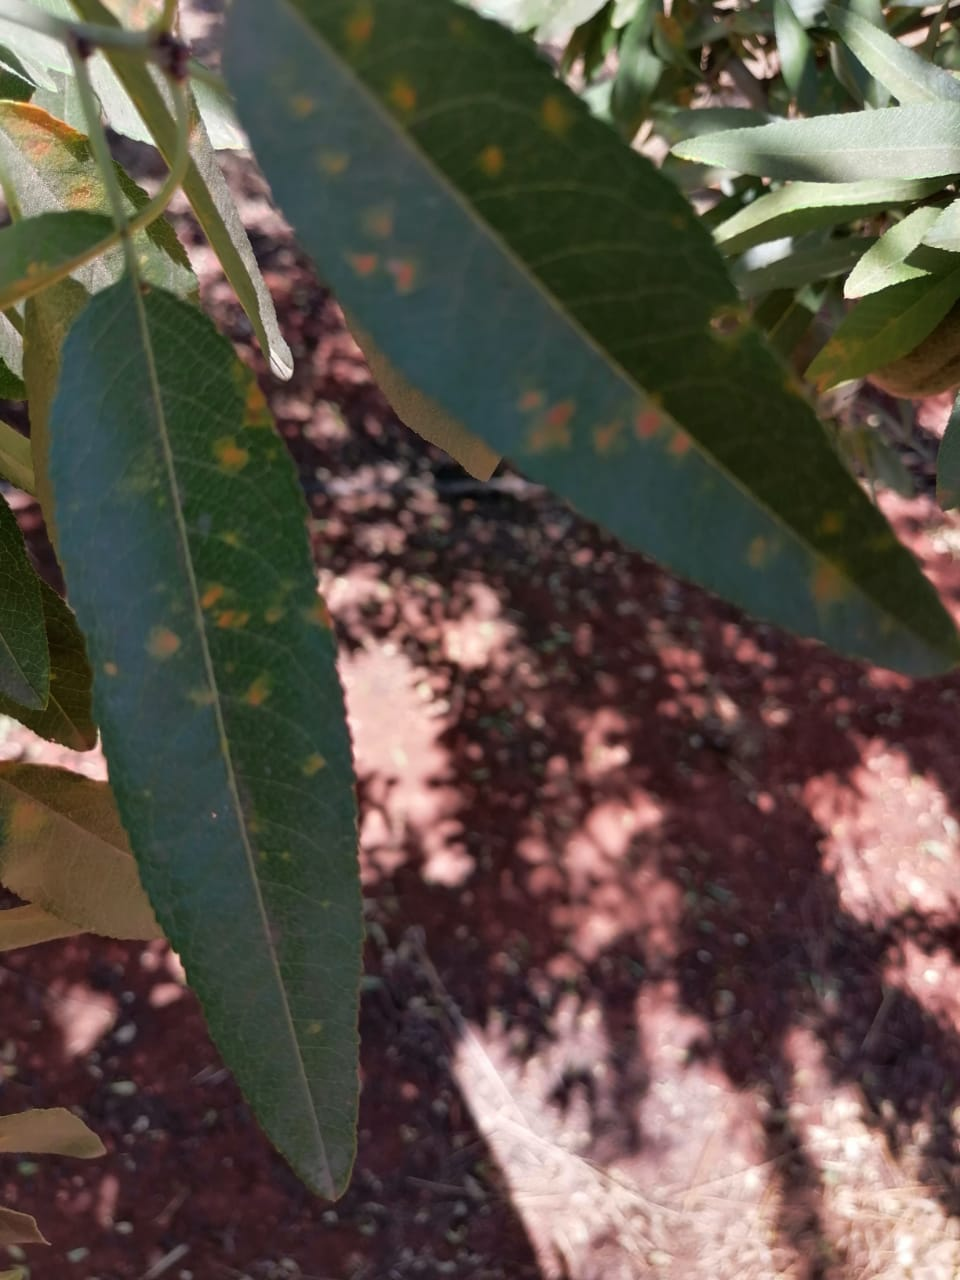polystigma: (222, 1, 955, 679), (51, 276, 367, 1200)
